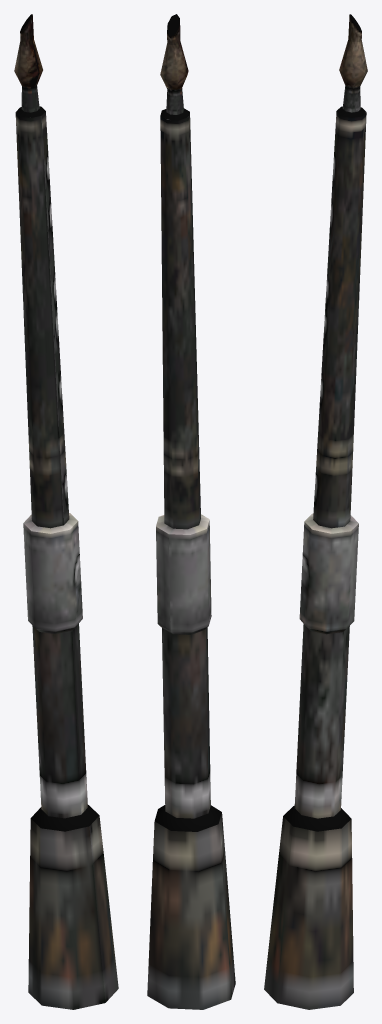
File: eqp_music_flute_droopy_l0.fbx
The picture shows the model from 3 angles, left to right: view 1: azimuth 90°, elevation 25°; view 2: azimuth 150°, elevation 25°; view 3: azimuth 270°, elevation 25°; orthographic projection.
Visible parts, largest first — view 1: mesh_node; view 2: mesh_node; view 3: mesh_node.
Boxes of the visible parts, x1,y1,x2,y2 form: mesh_node: (14,14,118,1009); mesh_node: (147,14,235,1009); mesh_node: (264,14,367,1009).
Size of the model in its own units: 0.0661 by 0.7912 by 0.0763.
1 material, 1 textured.
